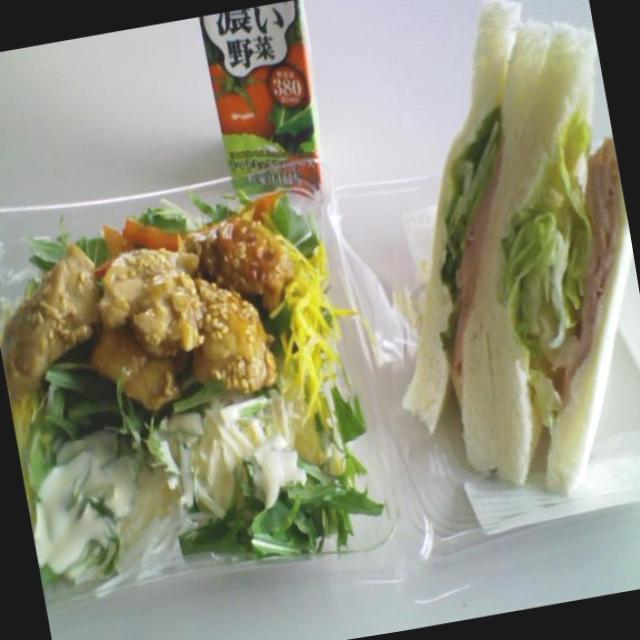Green Salad: (0, 174, 384, 602)
